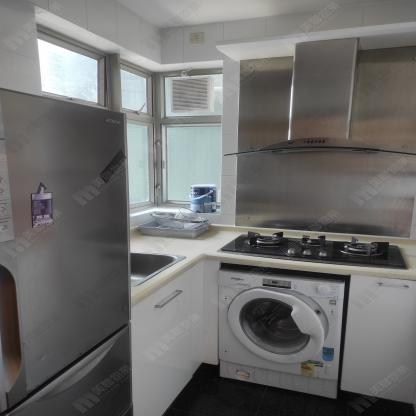Exhaust Fan: (167, 76, 215, 114)
Exhaust Hood: (223, 131, 416, 172)
Fridge: (0, 87, 134, 416)
Sink: (130, 250, 192, 291)
Stove: (205, 229, 416, 273)
Washing Machine: (218, 269, 349, 398)
